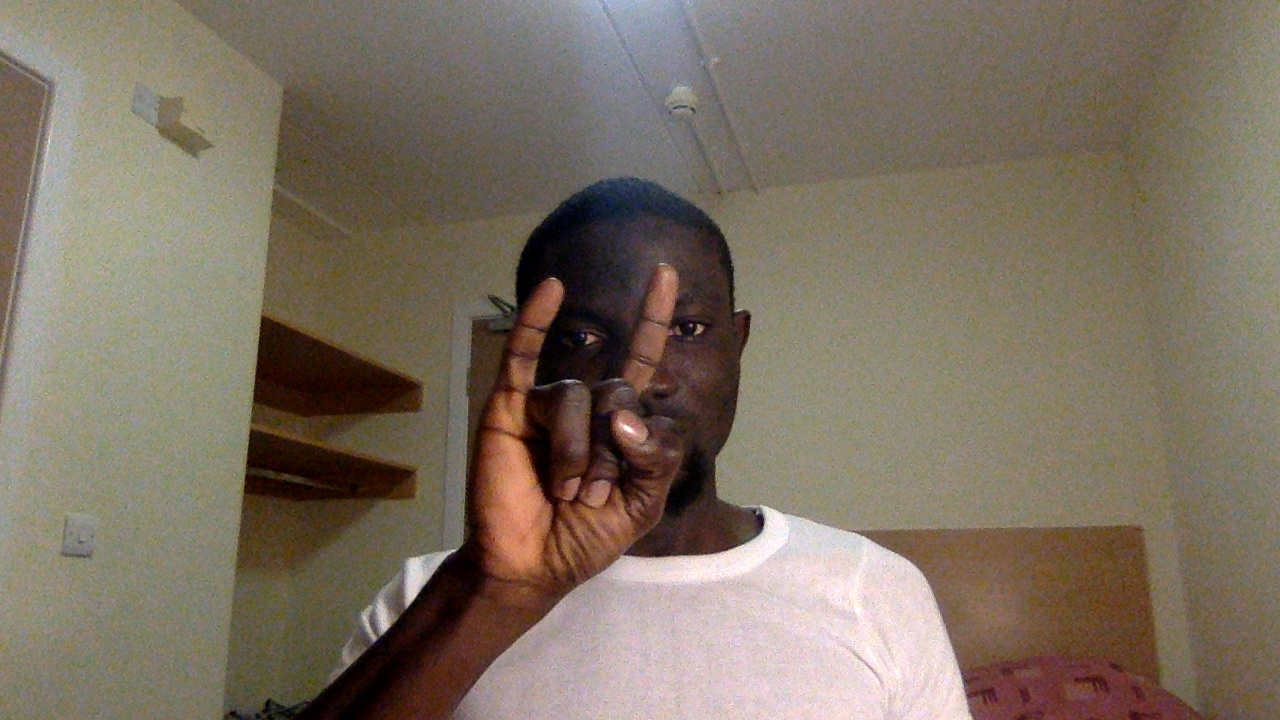I Love You: (458, 257, 690, 602)
